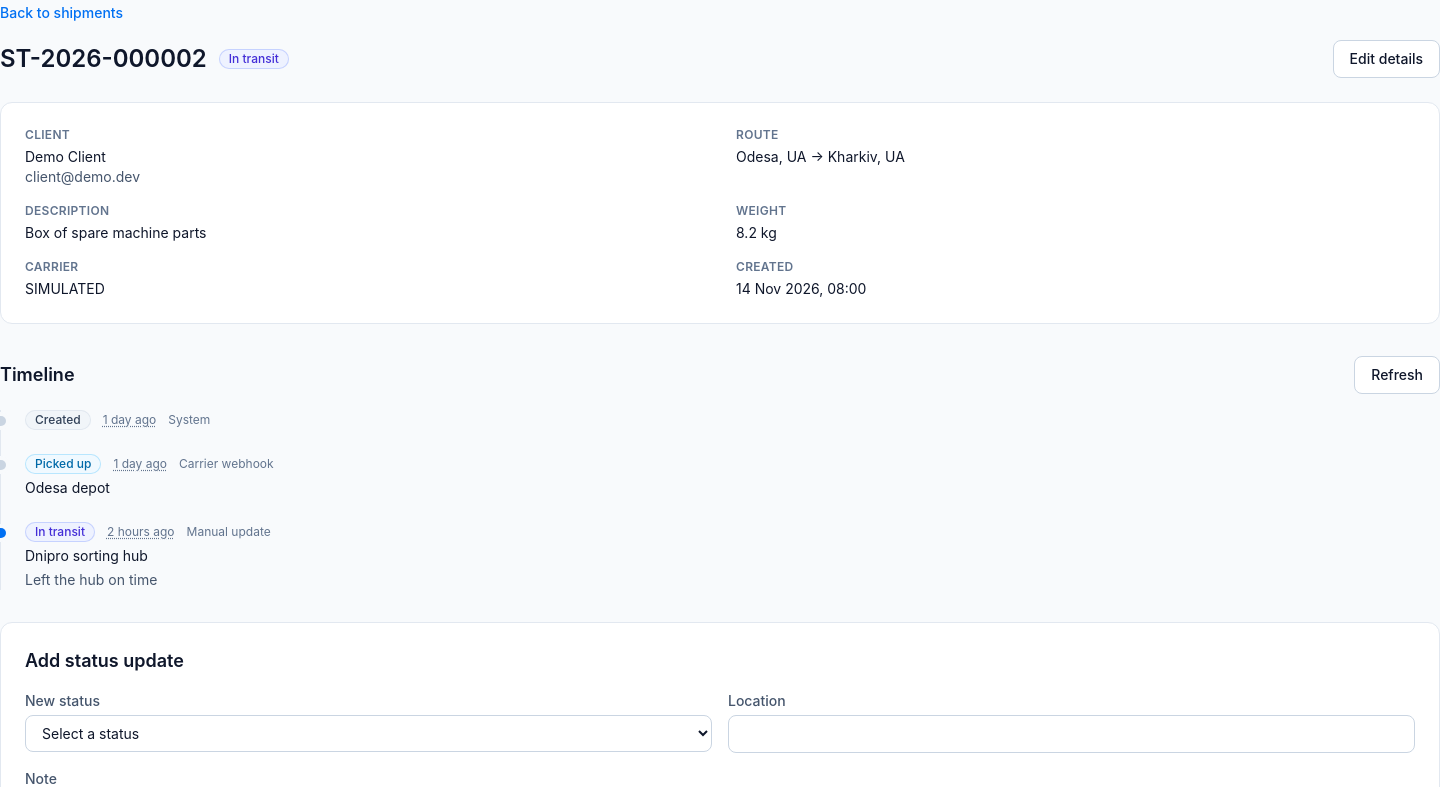
Test: ShipmentDetailView: edit details › shows the new values and "Details saved." after a save, and hides the note on the next edit
Expected: the heading "ST-2026-000002" is shown, [0,43,207,75]
Click the button "Edit details". click: (1386, 59)
box: [1333,40,1439,78]
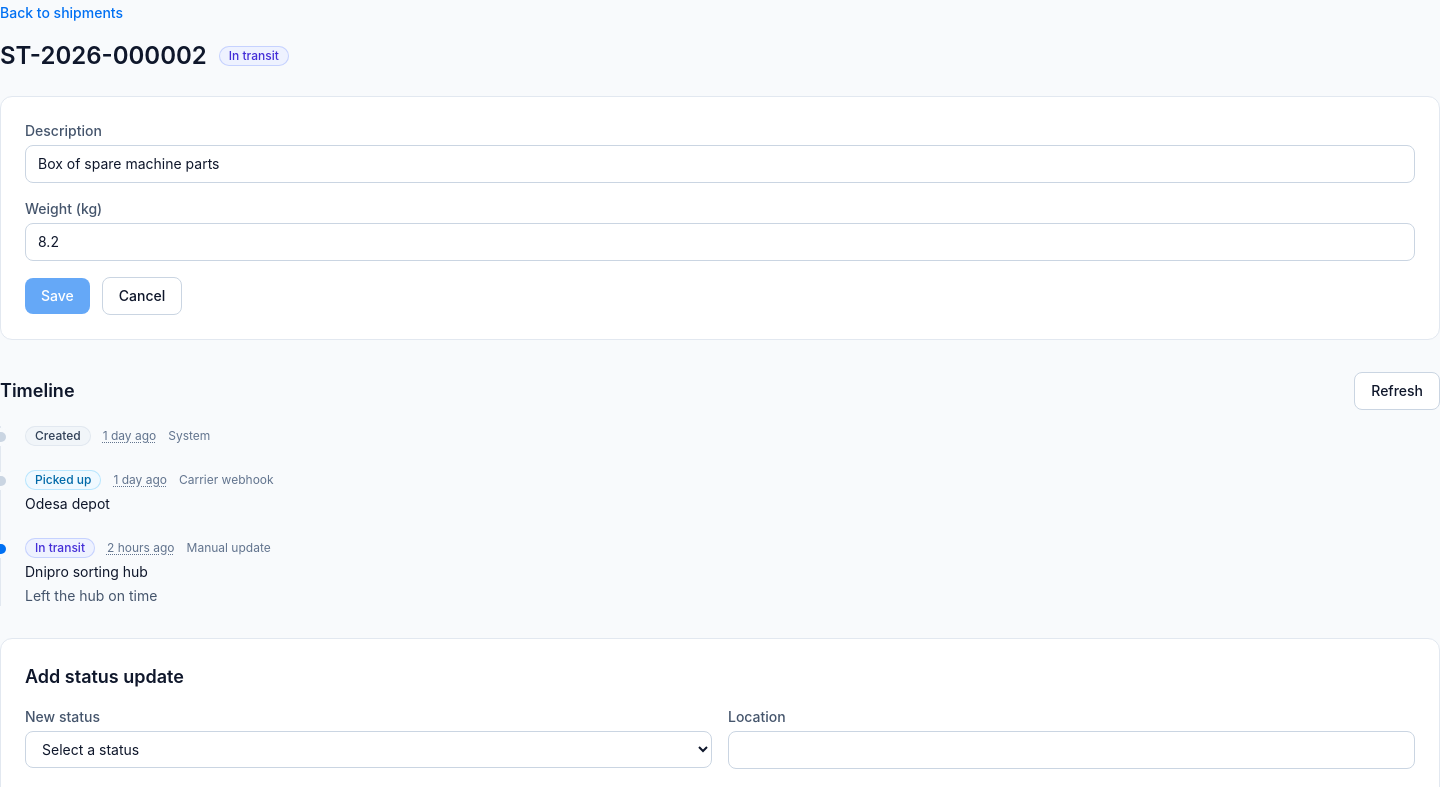
Replace the text in the field labelled "Description" with "Two boxes". click: (720, 164)
box: [25,145,1415,183]
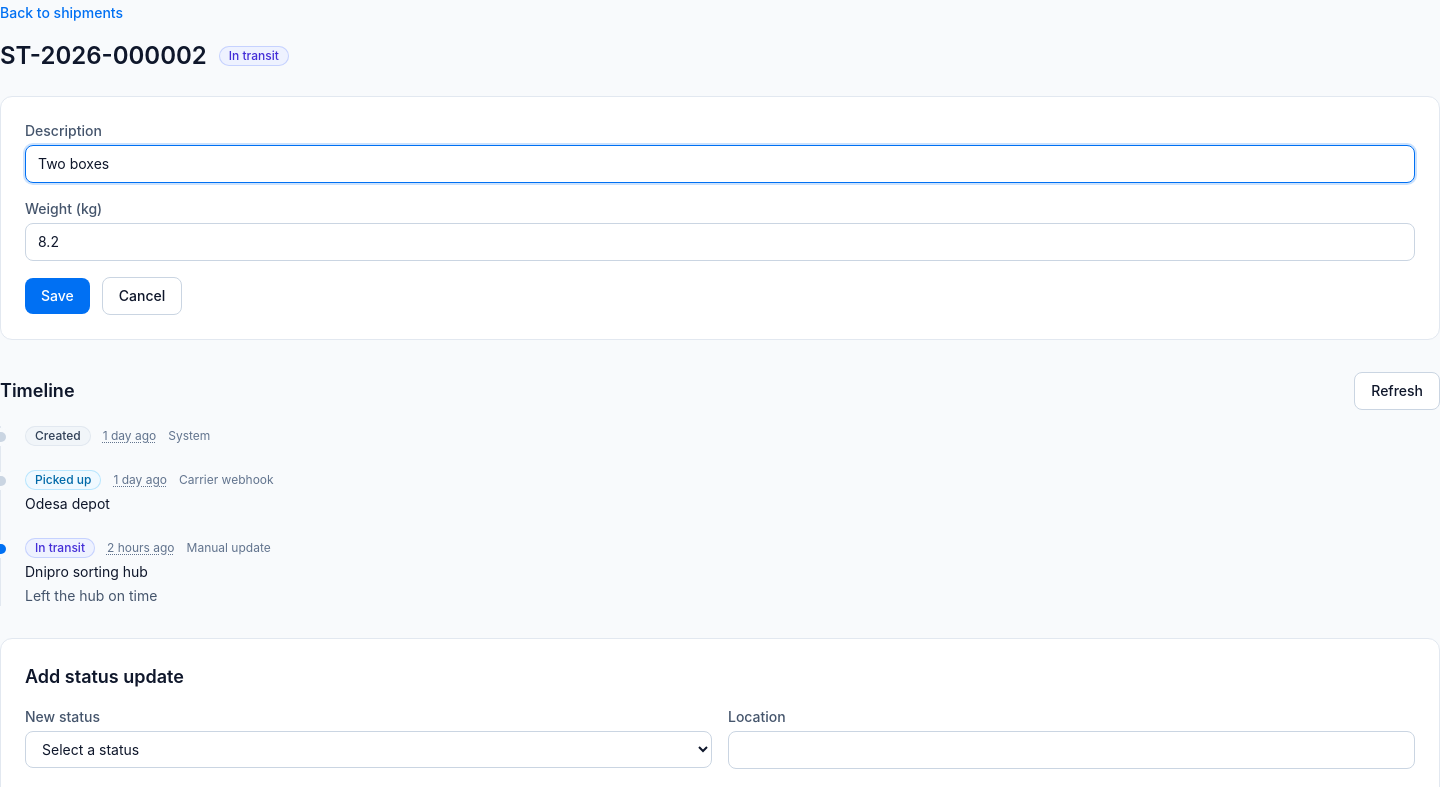
Click the button "Save". click: (57, 296)
box: [25,278,90,314]
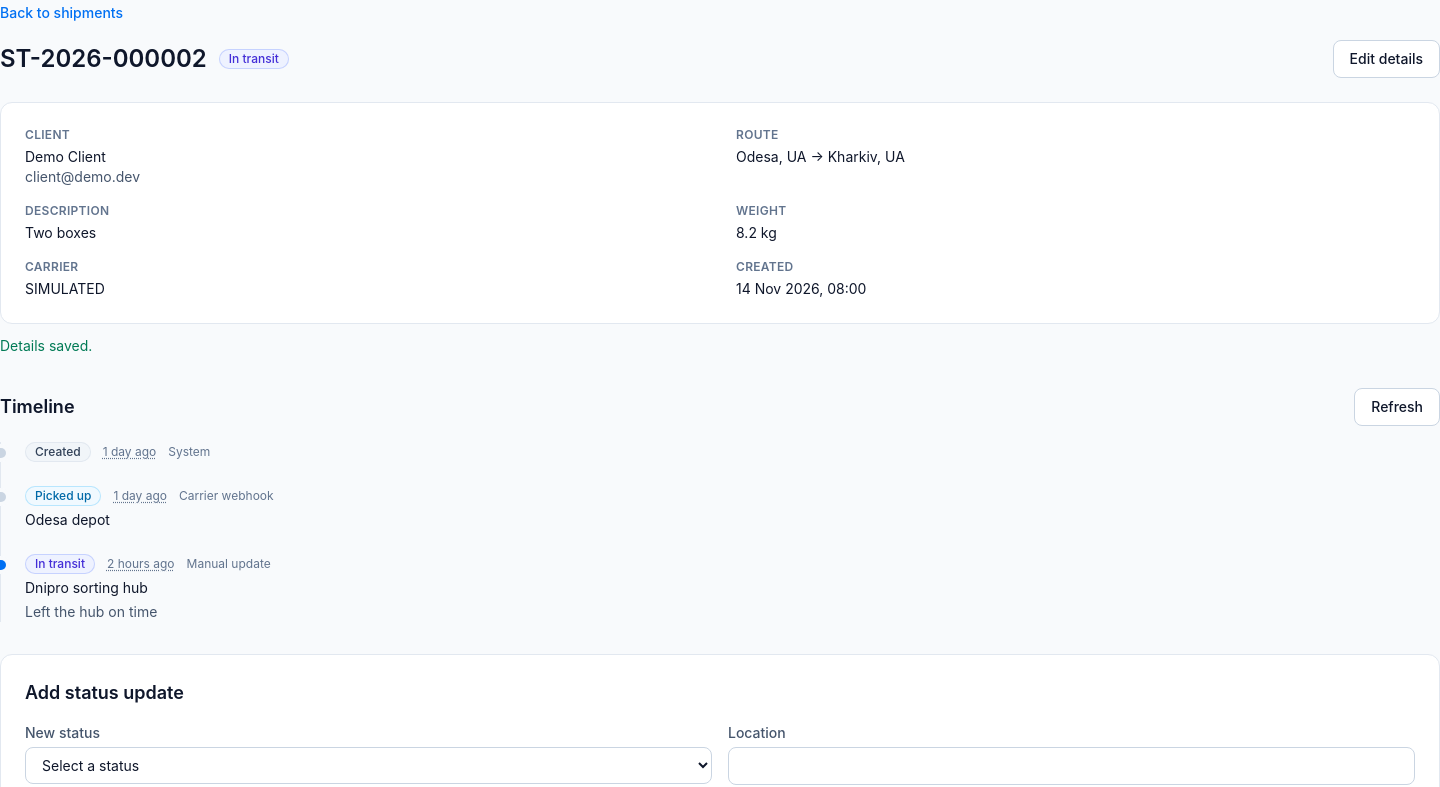
Expected: the text "Two boxes" is shown, [25,224,96,241]
Expected: the message reads "Details saved.", [0,337,92,354]
Click the button "Edit details". click: (1386, 59)
box: [1333,40,1439,78]
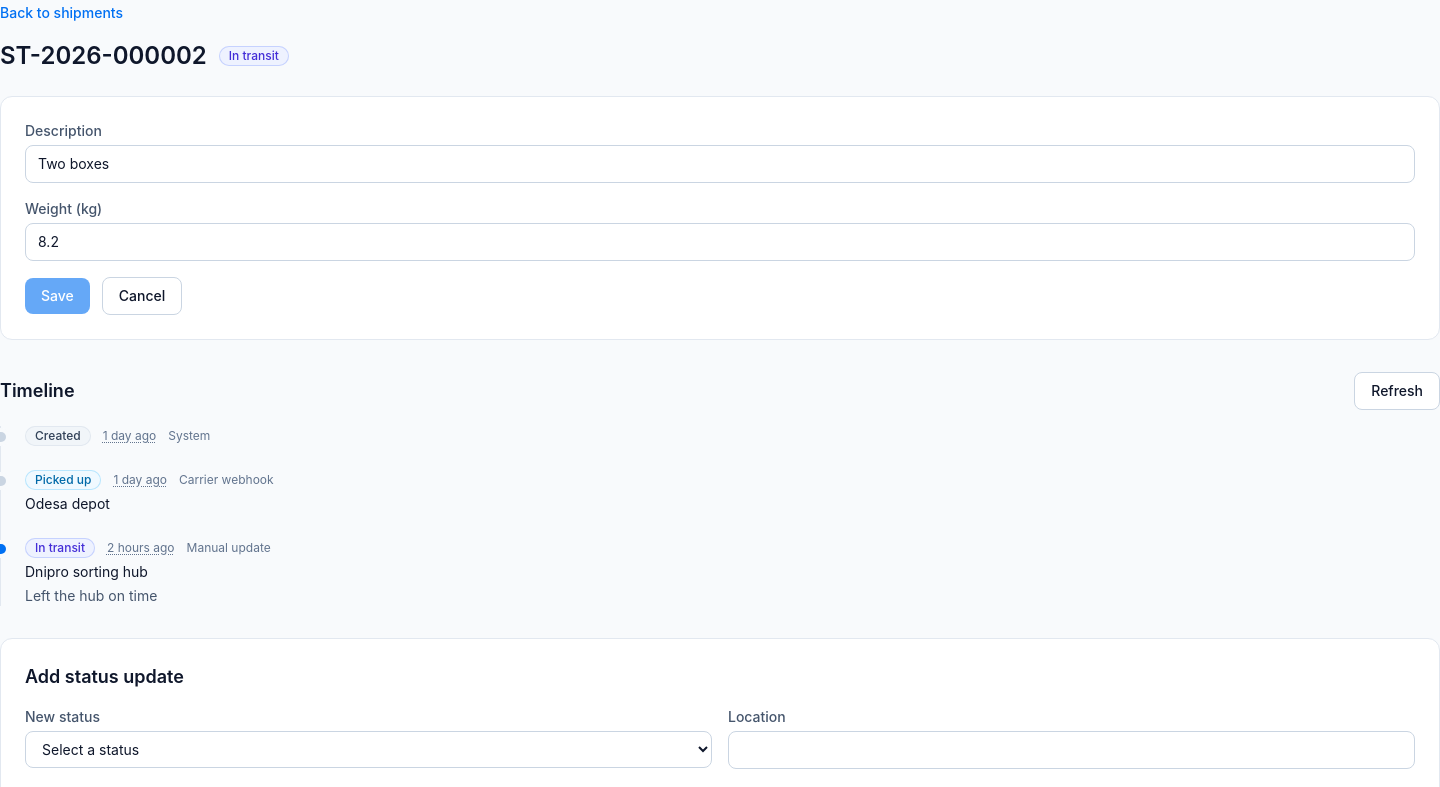
Expected: the text "Details saved." is gone
